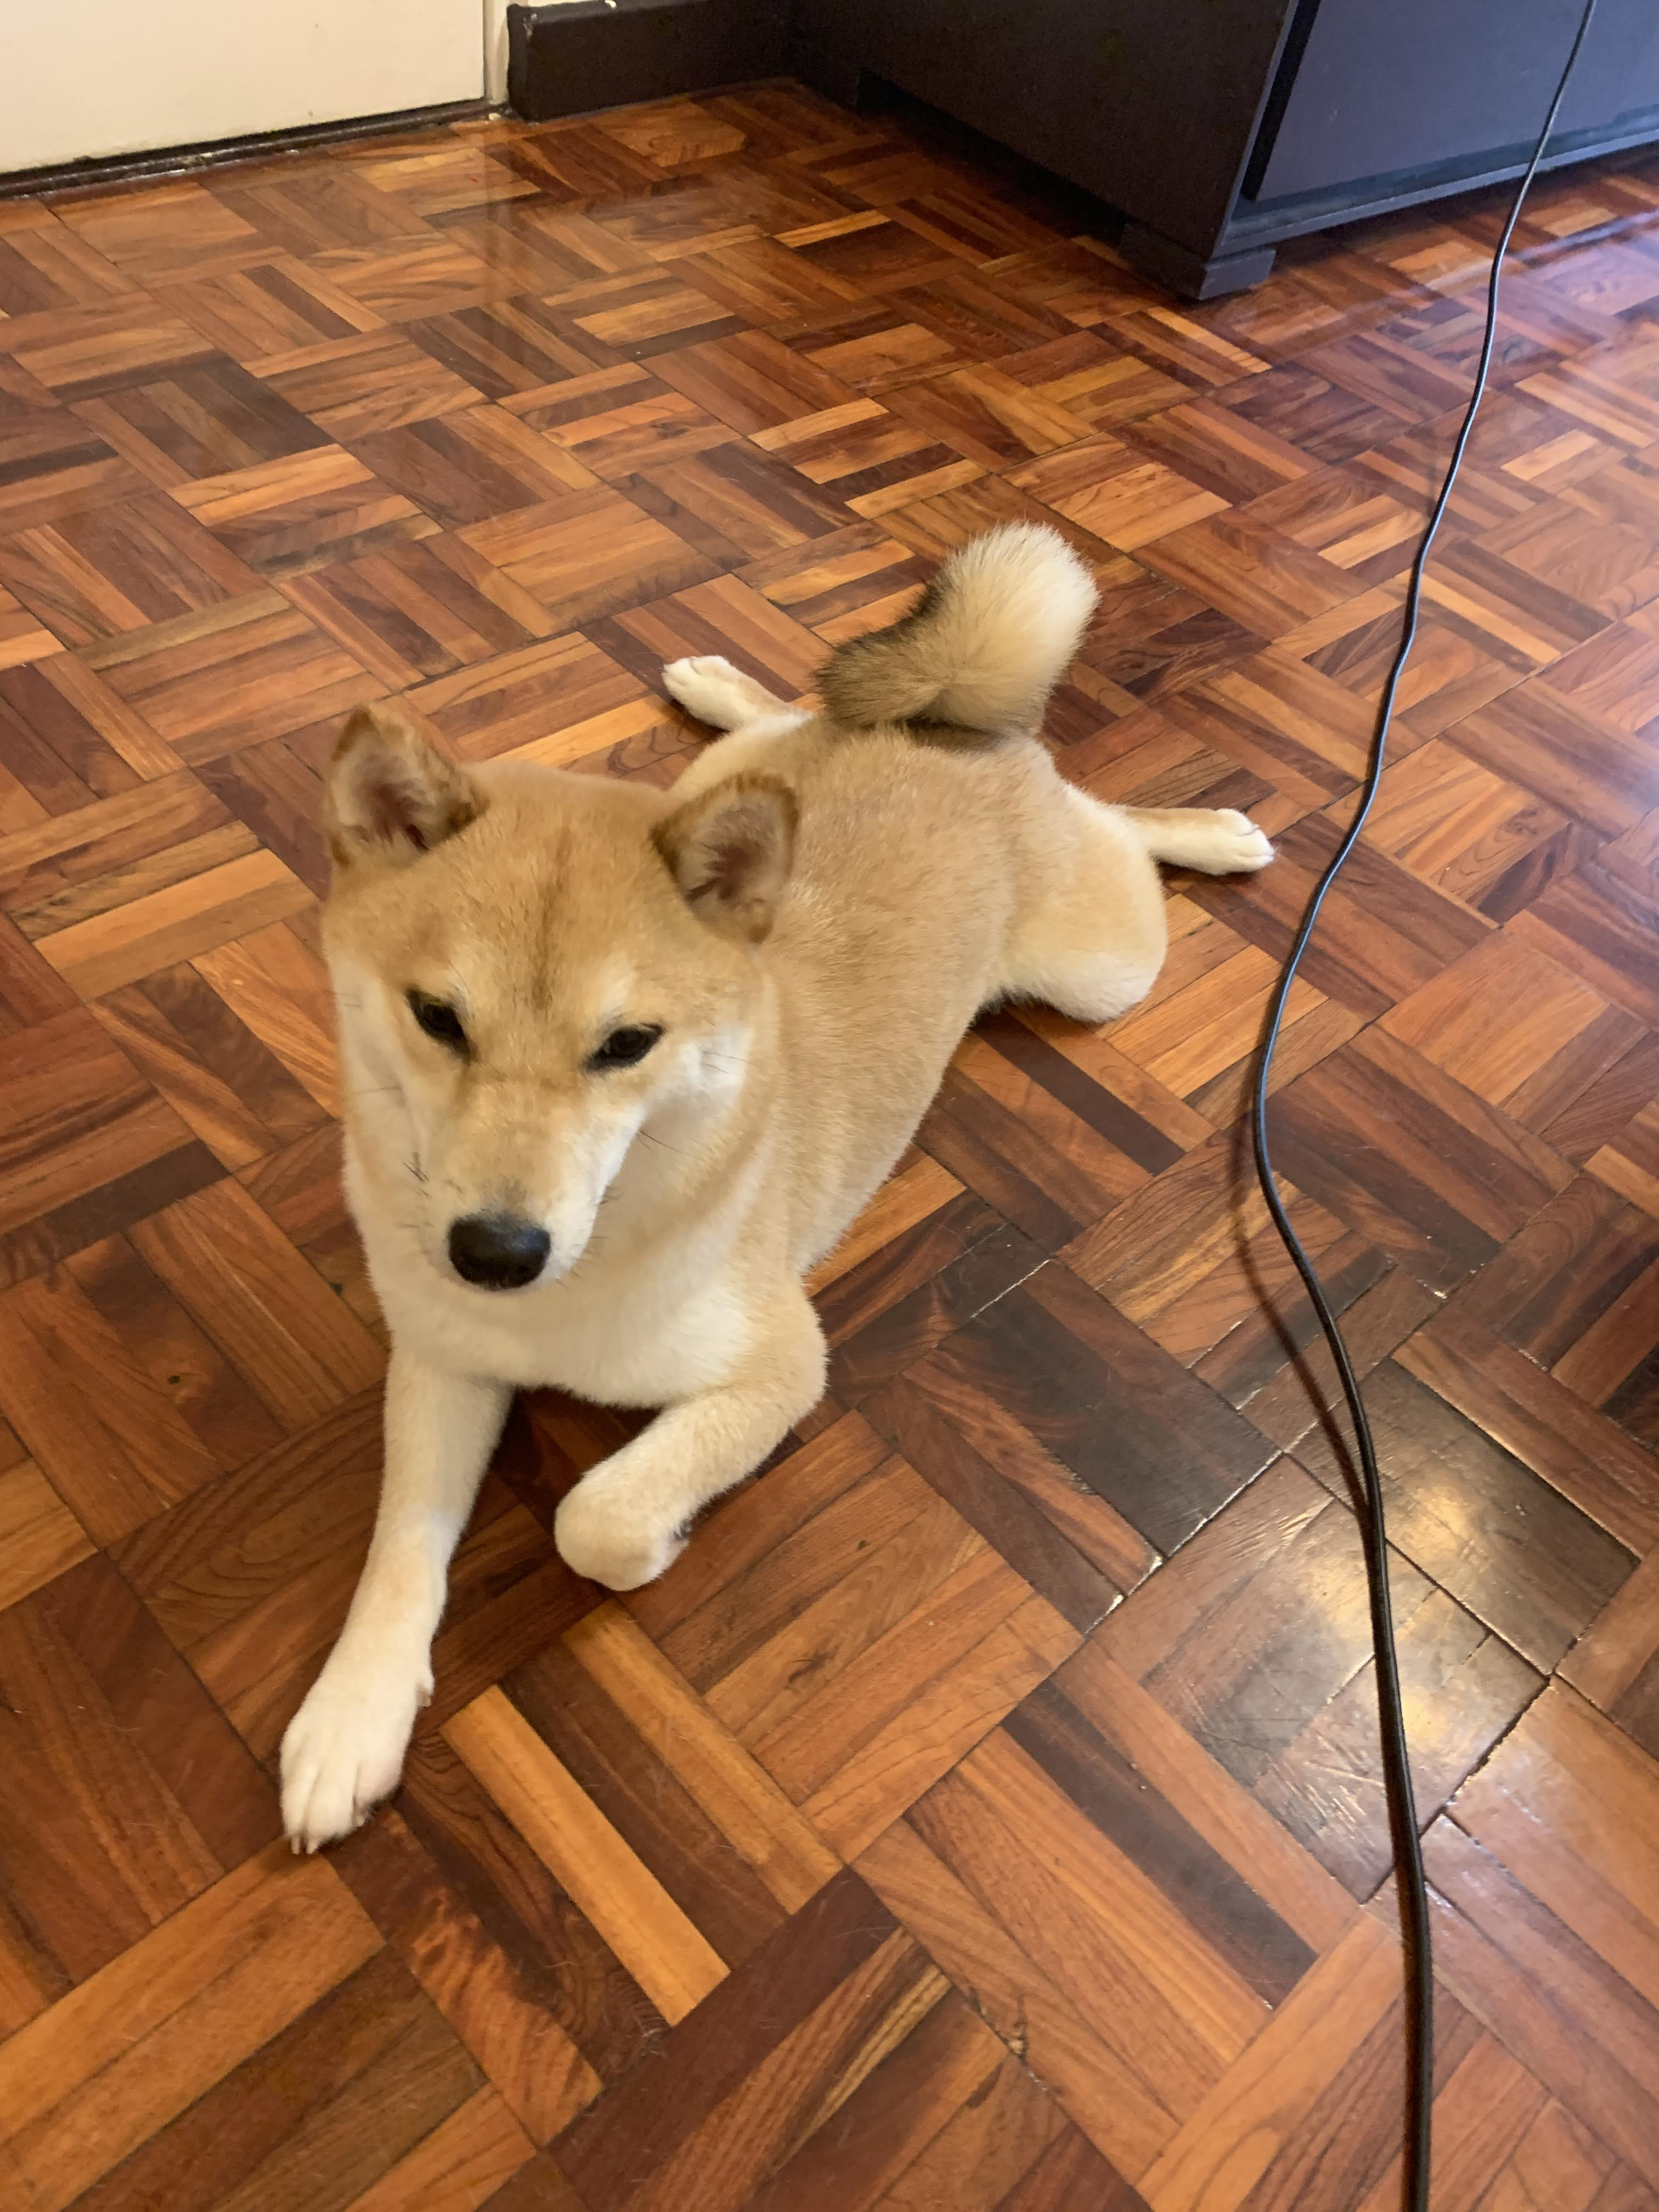Get down: (211, 371, 1284, 1914)
